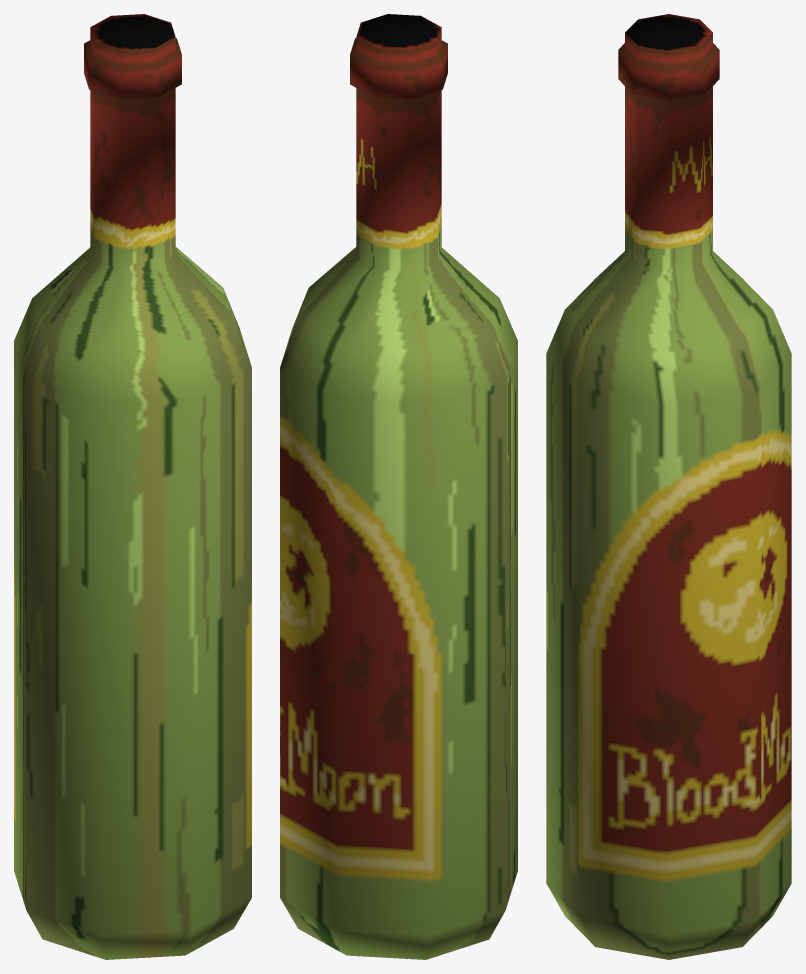
Rendered from ScaledBottle.gltf.
3 views of the same model, side by side, from view 1: azimuth 30°, elevation 25°; view 2: azimuth 150°, elevation 25°; view 3: azimuth 270°, elevation 25° (orthographic).
Parts seen in each view (by area): view 1: Cylinder; view 2: Cylinder; view 3: Cylinder.
Part boxes in pixels (left/top/right/bottom): Cylinder: left=14, top=14, right=251, bottom=959; Cylinder: left=280, top=14, right=517, bottom=959; Cylinder: left=546, top=14, right=791, bottom=959.
Bounding box in the file's own units: 0.203 × 0.8053 × 0.203.
1 material, 1 textured.
